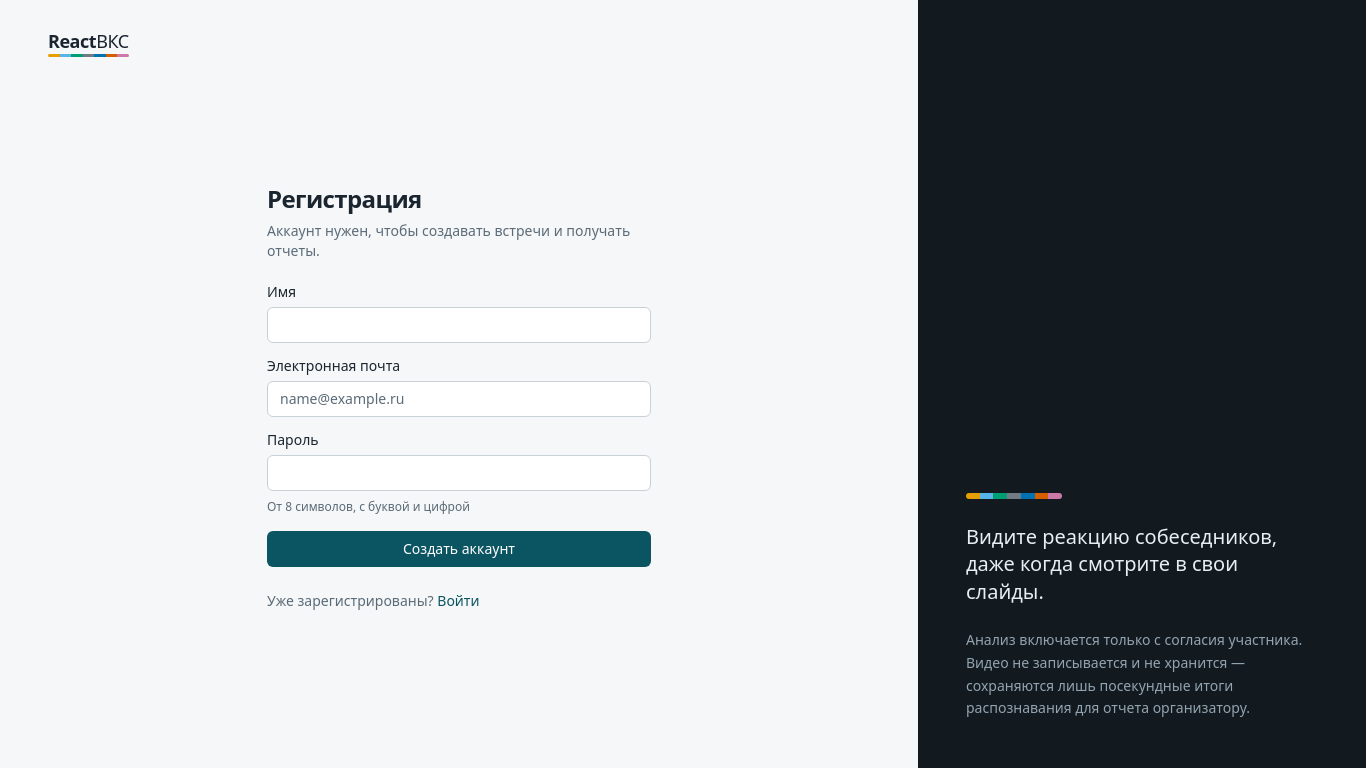
Scenario: регистрация › email_taken – ошибка у поля почты, без входа
The width and height of the screenshot is (1366, 768).
Expected: the heading "Регистрация" is shown, [267, 182, 422, 214]
Type "Иван Петров" into the field labelled "Имя" at (459, 324), box [267, 306, 651, 342]
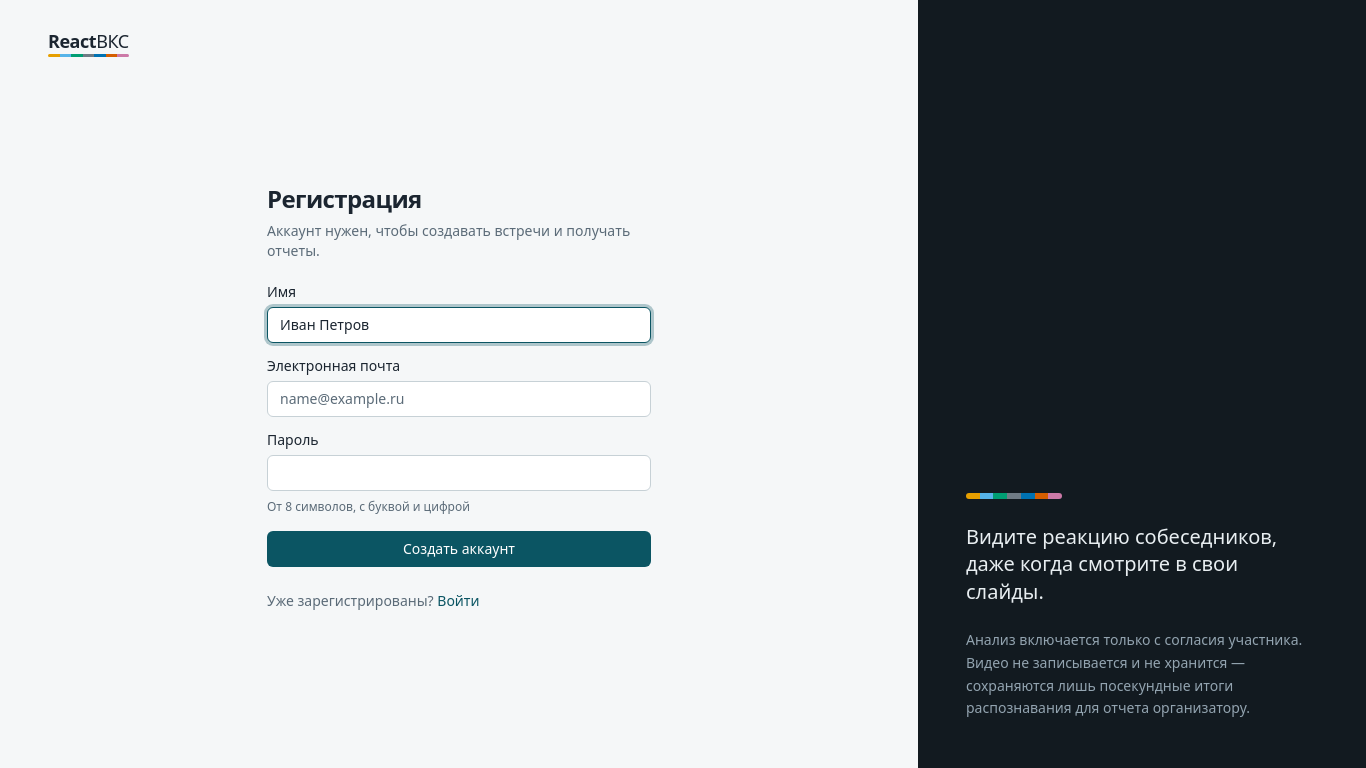
Type "ivan@example.ru" into the field labelled "Электронная почта" at (459, 398), box [267, 380, 651, 416]
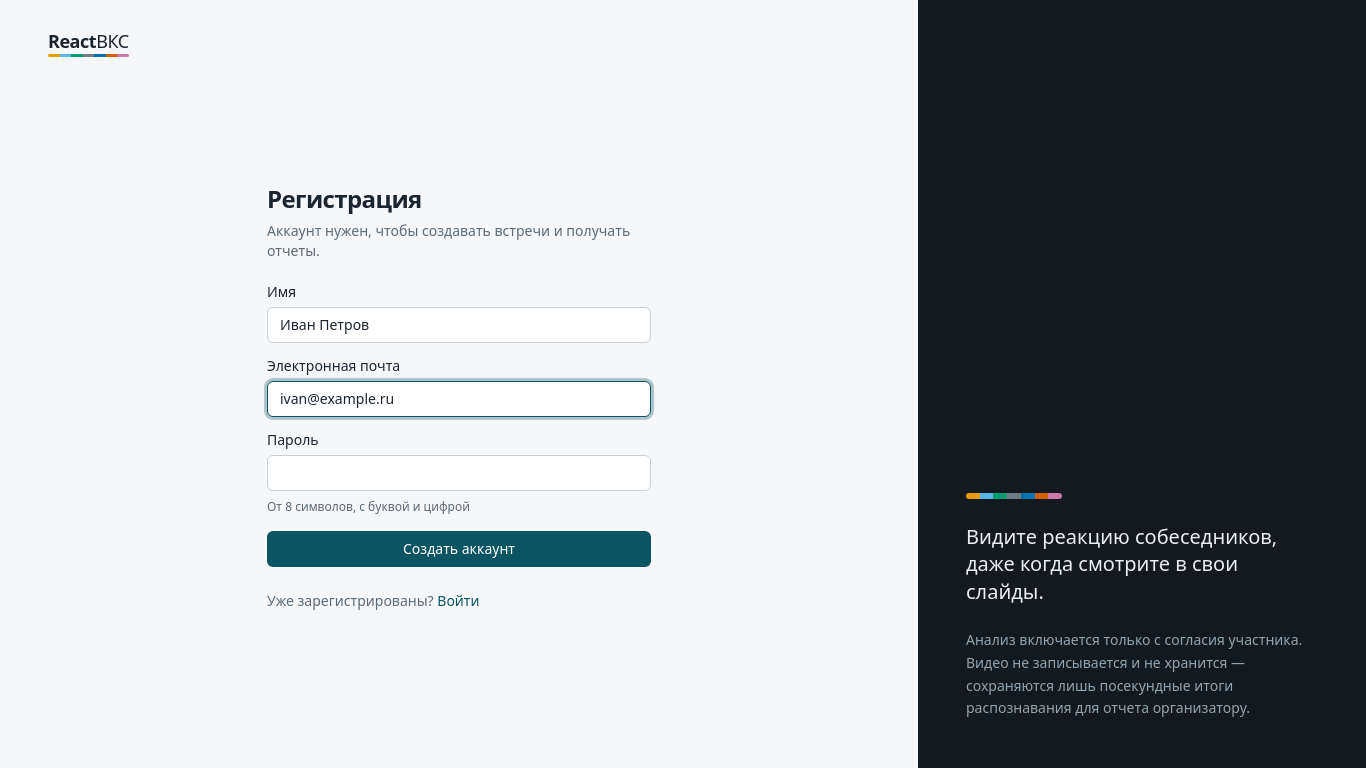
Type "Passw0rd1" into the password field labelled "Пароль" at (459, 472), box [267, 454, 651, 490]
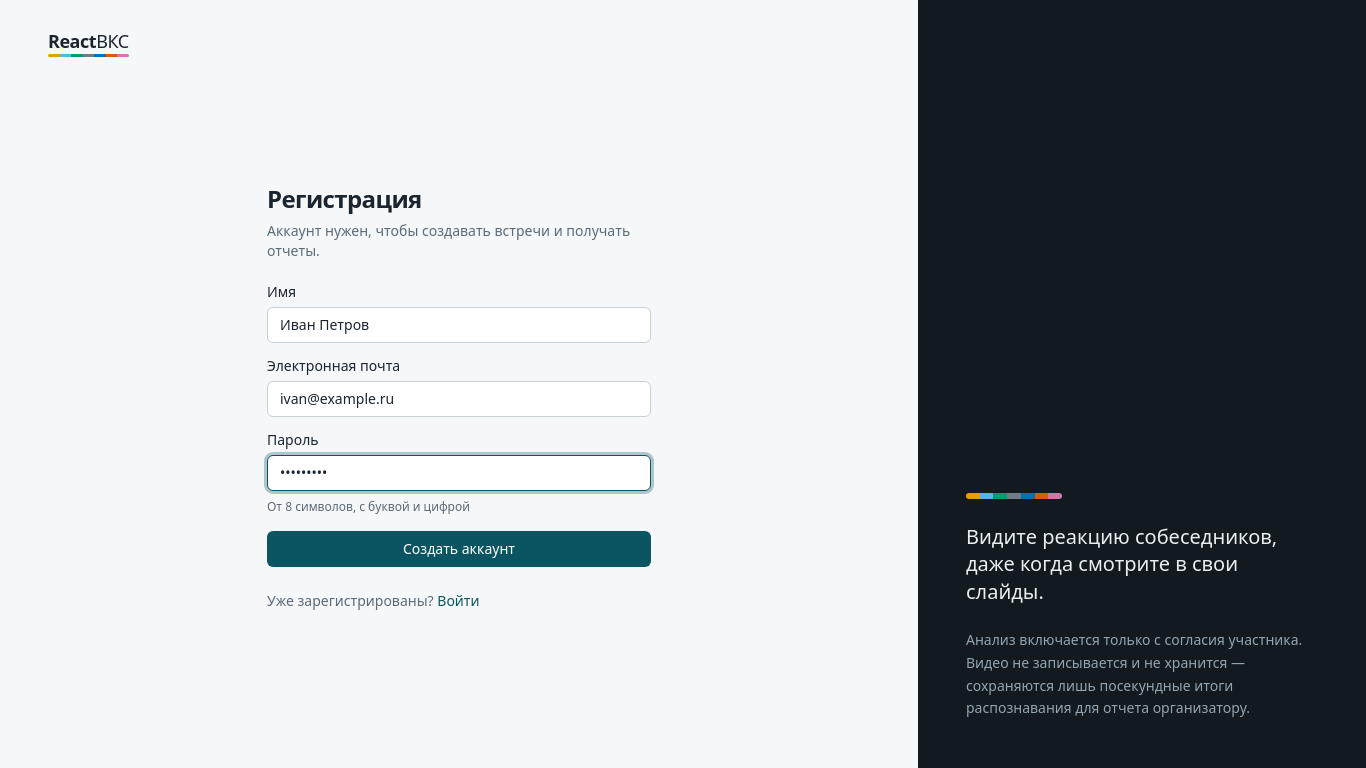
Click the button "Создать аккаунт" at (459, 548), box [267, 530, 651, 566]
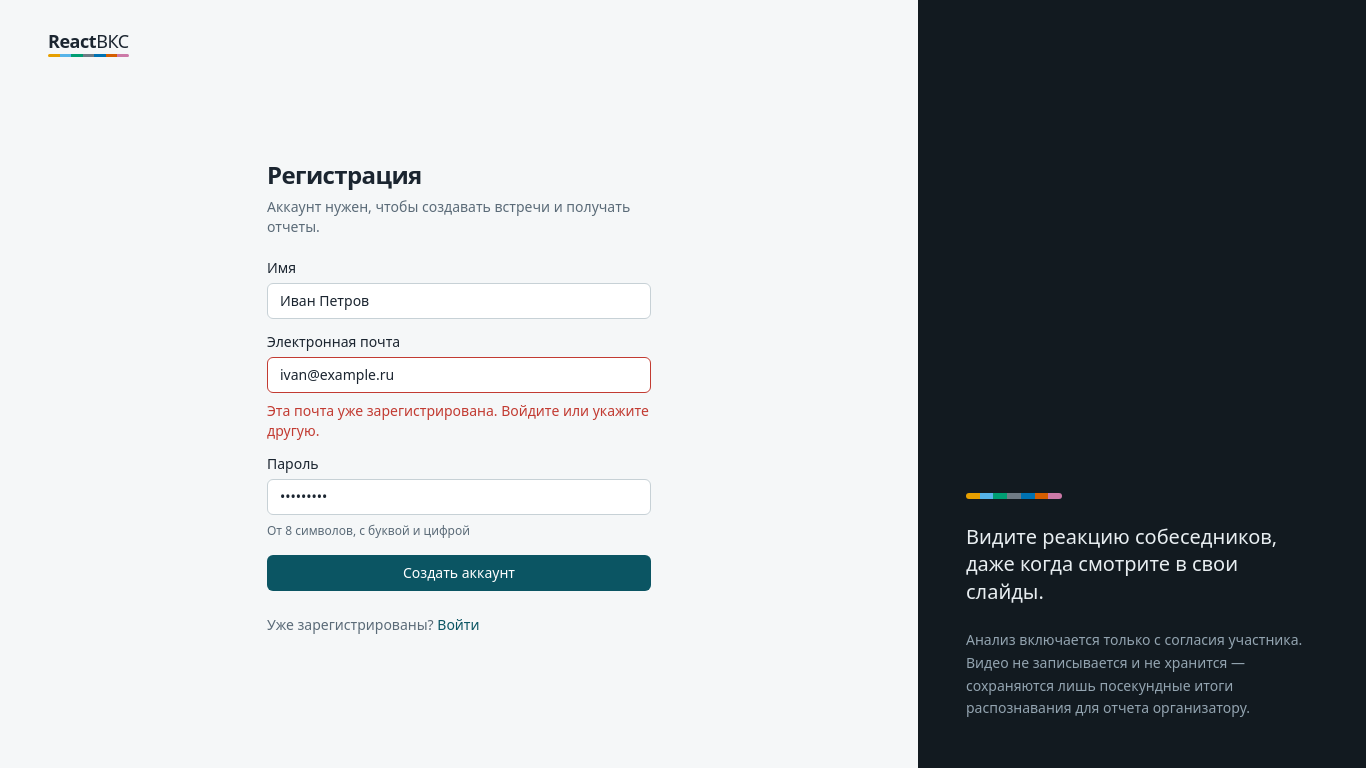
Expected: the text "Эта почта уже зарегистрирована. Войдите или укажите другую." is shown, [267, 400, 651, 440]
